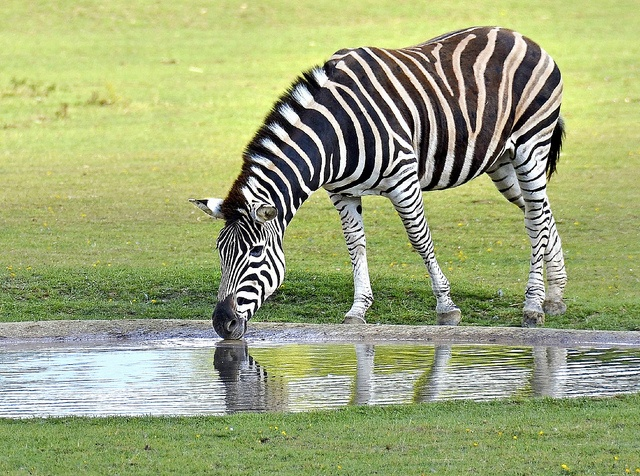zebra: (187, 24, 569, 339)
